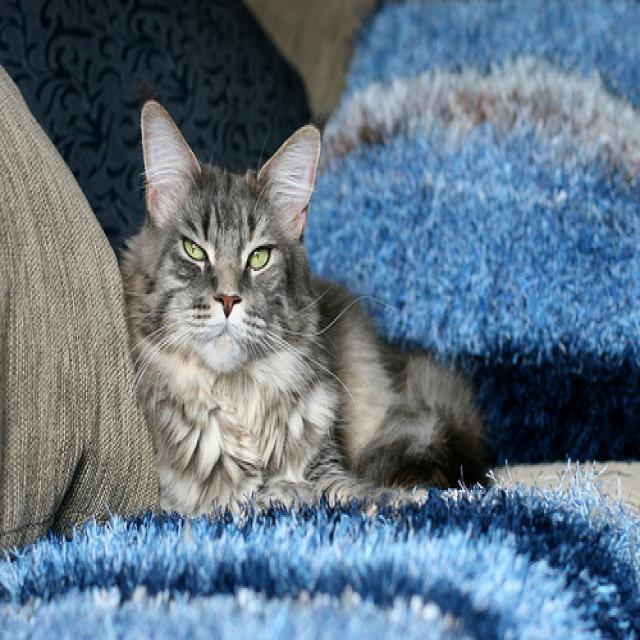Maine_Coon: (125, 93, 328, 381)
